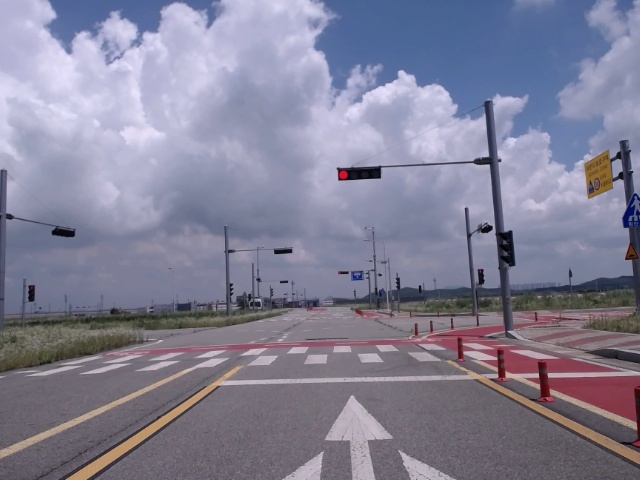red_4: (338, 168, 382, 181)
